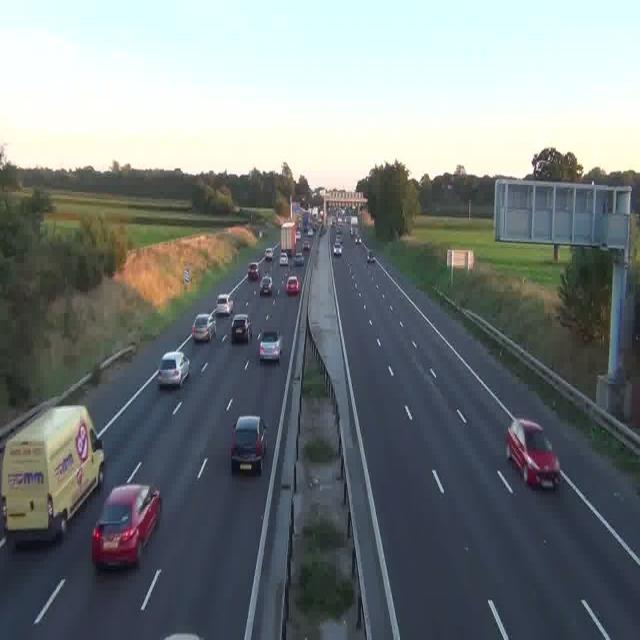car: (91, 485, 161, 568), (506, 419, 560, 488), (231, 415, 267, 474), (158, 350, 192, 387), (259, 330, 281, 361), (192, 314, 214, 341), (230, 313, 250, 342), (214, 294, 234, 316), (285, 276, 299, 296), (260, 277, 274, 295), (247, 263, 260, 280), (279, 252, 290, 266), (333, 243, 341, 257), (301, 239, 309, 253), (368, 249, 376, 262)
truck: (0, 405, 104, 544), (280, 220, 297, 257), (350, 215, 360, 240), (307, 211, 316, 230)
